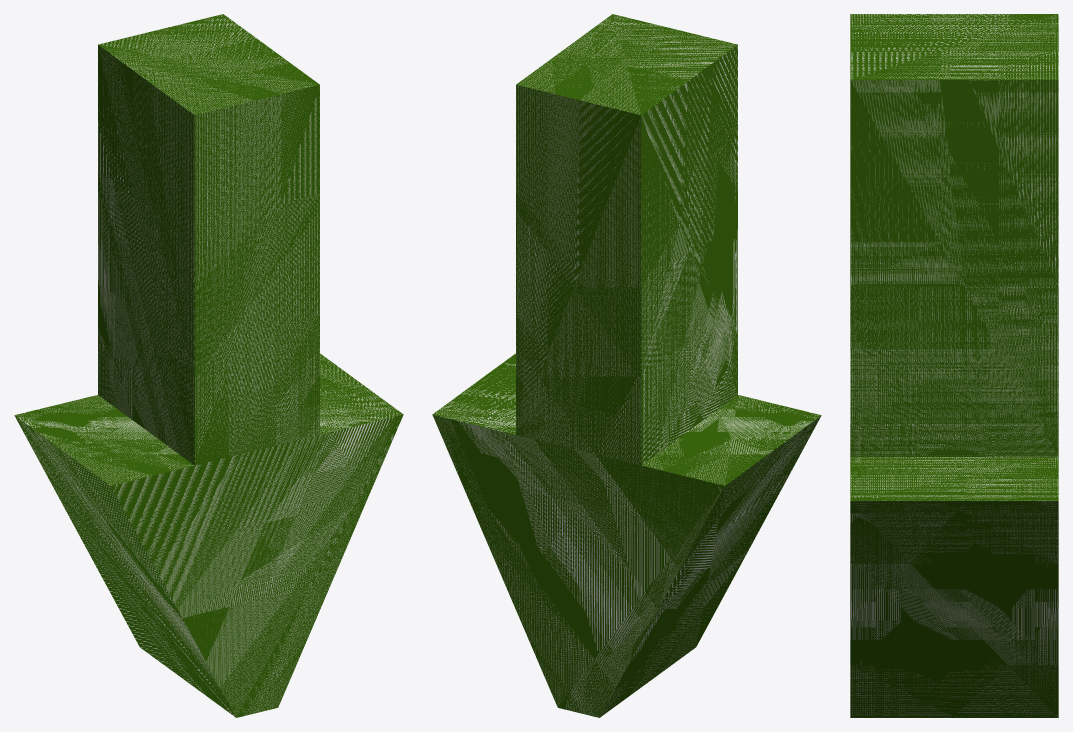
File: flecha_verde.dae
3 views of the same model, side by side, from view 1: azimuth 30°, elevation 25°; view 2: azimuth 150°, elevation 25°; view 3: azimuth 270°, elevation 25° (orthographic). The views are drawn at different scales.
Parts seen in each view (by area): view 1: SketchUp; view 2: SketchUp; view 3: SketchUp.
Part boxes in pixels (<box>): SketchUp: <box>14,14,403,717</box>; SketchUp: <box>432,14,821,717</box>; SketchUp: <box>850,14,1058,717</box>.
Bounding box in the file's own units: 13.78 × 7.87 × 27.56.
